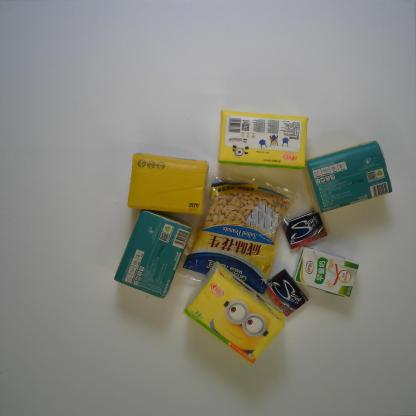Dried Fruit: (174, 164, 302, 297)
Gum: (265, 268, 308, 317), (281, 210, 328, 250)
Milk: (291, 245, 360, 299)
Tissue: (182, 260, 285, 366), (113, 209, 194, 300), (305, 139, 393, 213), (216, 109, 310, 172), (126, 152, 210, 216)
